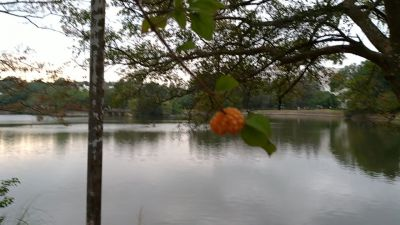eggs: (210, 106, 245, 136)
